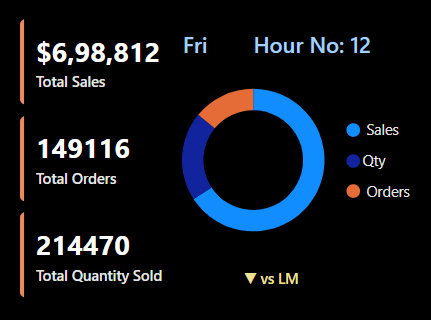

What the dashboard file says about the page in this screenshot:
{"tool":"powerbi","page":{"name":"Tool tip for Day and Hour chart","canvas":[320,240],"ordinal":2},"visuals":[{"type":"cardVisual","fields":{"Data":["Transactions.Total Sales","Transactions.Total Orders","Transactions.Total Quantity Sold"]},"box":[0,0,168,240],"z":0},{"type":"donutChart","fields":{"Y":["Transactions.Total Sales","Transactions.Total Quantity Sold","Transactions.Total Orders"]},"box":[116,50,202,141],"z":1000},{"type":"cardVisual","fields":{"Data":["Transactions.TT for Hour"]},"box":[160,0,160,68],"z":2000},{"type":"cardVisual","fields":{"Data":["Transactions.Mom growth and diff"]},"box":[101,172,202,68],"z":3000},{"type":"cardVisual","fields":{"Data":["Min(Date Table.Day Name)"]},"box":[108,0,94,68],"z":4000}]}

Visuals, with their boxes in screenshot pixels (x1, y1, x2, y2), scaled from the page's 320x240 canvas onto the 431x320 screenshot:
cardVisual - Transactions.Total Sales x Transactions.Total Orders: 0 0 226 319
donutChart - Transactions.Total Sales x Transactions.Total Quantity Sold: 156 67 428 255
cardVisual - Transactions.TT for Hour: 216 0 430 91
cardVisual - Transactions.Mom growth and diff: 136 229 408 319
cardVisual - Min(Date Table.Day Name): 145 0 272 91
